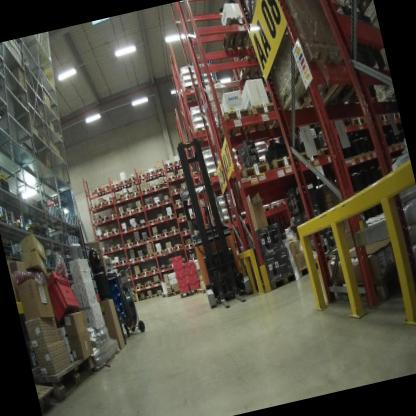forklift: (163, 126, 264, 320)
pallet: (212, 13, 374, 135), (257, 28, 365, 129), (31, 348, 103, 414), (225, 151, 276, 202), (211, 100, 261, 149), (246, 95, 287, 141), (230, 48, 272, 89), (266, 146, 303, 182), (289, 255, 326, 288), (263, 266, 300, 295), (37, 381, 65, 416), (326, 110, 356, 140), (175, 79, 205, 109), (294, 143, 323, 169), (306, 146, 341, 163), (177, 285, 204, 303), (372, 109, 394, 131), (269, 196, 290, 213), (165, 288, 186, 303), (117, 176, 134, 192), (94, 183, 107, 200), (126, 173, 139, 189), (392, 105, 402, 125), (174, 257, 189, 270), (172, 159, 185, 174), (120, 190, 133, 205), (110, 180, 123, 195), (136, 170, 148, 186), (259, 205, 273, 218), (195, 285, 209, 298), (158, 288, 172, 301), (100, 181, 114, 194), (134, 204, 146, 219), (154, 165, 166, 180), (115, 208, 127, 222), (104, 196, 116, 210), (145, 168, 157, 182), (164, 159, 175, 174), (138, 217, 150, 230), (102, 228, 114, 241), (158, 180, 170, 193), (130, 188, 143, 200), (156, 262, 169, 273), (141, 185, 152, 198), (183, 239, 197, 249), (127, 207, 137, 221), (153, 288, 164, 300), (135, 282, 146, 294), (154, 247, 166, 258), (93, 216, 104, 228), (152, 198, 163, 210), (166, 172, 177, 184), (150, 183, 161, 195), (89, 202, 100, 214), (172, 241, 182, 254), (108, 212, 118, 225), (175, 169, 188, 179), (147, 215, 158, 226), (130, 221, 141, 232), (212, 0, 236, 5), (161, 229, 173, 239), (111, 226, 123, 236), (97, 200, 107, 212), (102, 213, 111, 226), (176, 213, 190, 221), (132, 270, 143, 280), (124, 240, 134, 251), (164, 245, 174, 256), (188, 254, 199, 264), (151, 231, 162, 241), (165, 211, 176, 221), (121, 224, 132, 234), (143, 202, 154, 212), (113, 241, 125, 250), (172, 200, 184, 209), (147, 293, 157, 303), (141, 268, 151, 278), (119, 257, 129, 267), (133, 237, 143, 247), (171, 227, 181, 237), (128, 256, 139, 265), (145, 251, 156, 260), (180, 226, 191, 235), (161, 197, 173, 205), (146, 280, 155, 290), (152, 279, 162, 288), (106, 243, 115, 253), (142, 236, 152, 245), (137, 254, 147, 263), (157, 213, 166, 223), (96, 233, 105, 243), (109, 260, 120, 268), (167, 261, 176, 270), (149, 267, 159, 275), (170, 186, 180, 193), (116, 196, 123, 206), (125, 272, 133, 280), (139, 295, 148, 302), (101, 246, 107, 254)
small_load_carrier: (40, 267, 87, 325), (188, 277, 202, 293), (176, 282, 191, 295), (173, 263, 187, 276), (174, 273, 189, 285), (184, 260, 197, 273), (170, 254, 184, 265), (186, 270, 199, 280)
